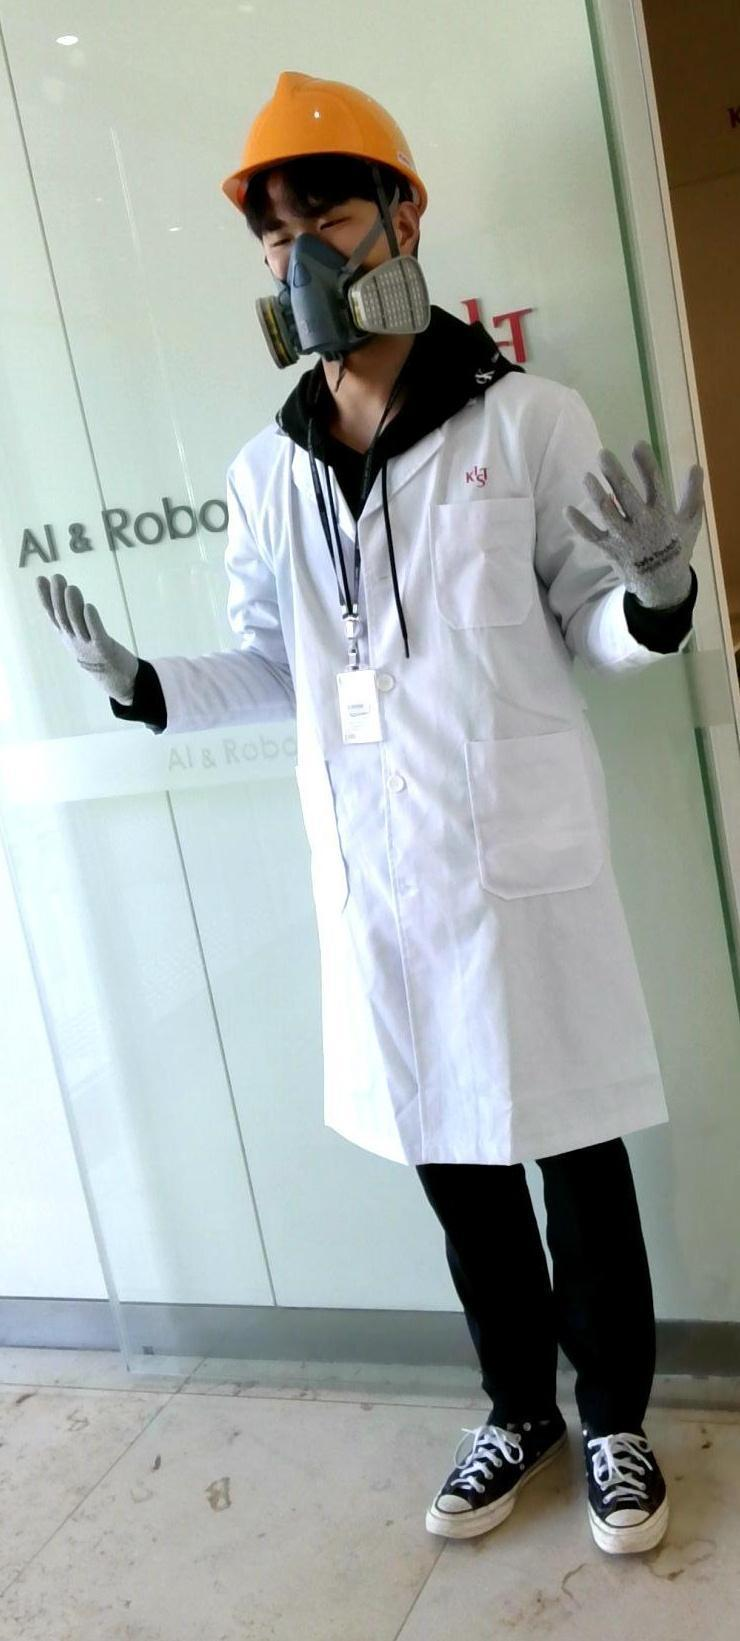lab_coat: (246, 449, 590, 1167)
